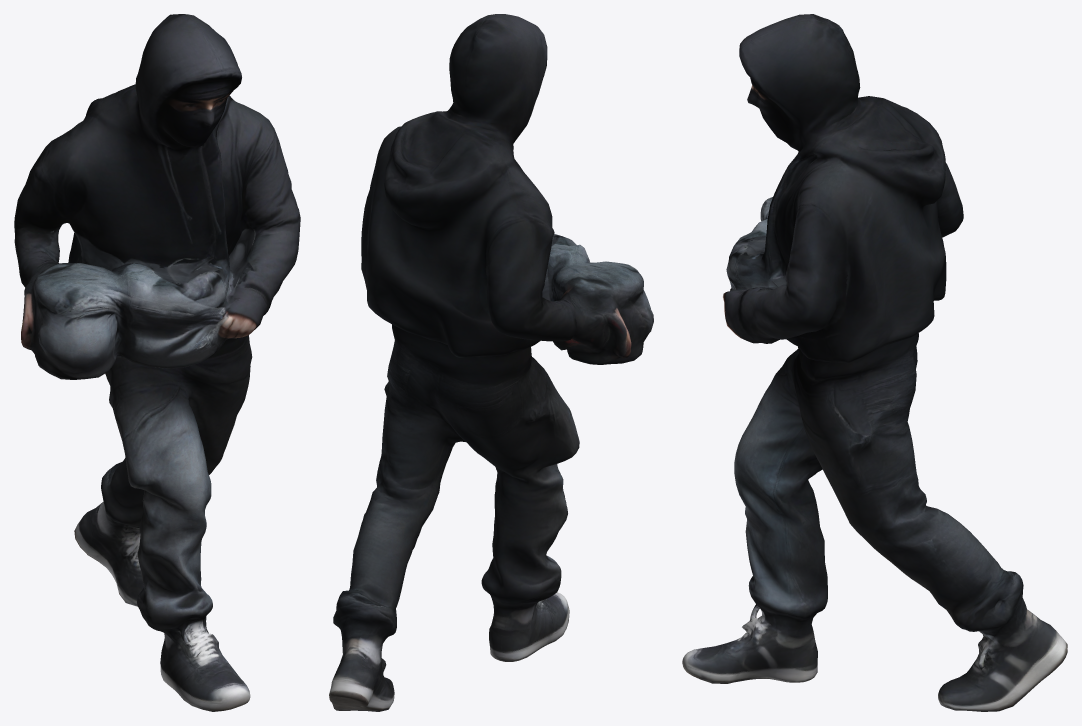
File: a_thief_running_away__0105195343_texture.fbx
3 views of the same model, side by side, from view 1: azimuth 30°, elevation 25°; view 2: azimuth 150°, elevation 25°; view 3: azimuth 270°, elevation 25° (orthographic). The views are drawn at different scales.
Parts seen in each view (by area): view 1: Mesh1_Mesh1.026; view 2: Mesh1_Mesh1.026; view 3: Mesh1_Mesh1.026.
Boxes of the visible parts, x1=… form: Mesh1_Mesh1.026: x1=14, y1=14, x2=300, y2=711; Mesh1_Mesh1.026: x1=329, y1=14, x2=653, y2=711; Mesh1_Mesh1.026: x1=682, y1=14, x2=1067, y2=711.
Size of the model in its own units: 86.16 by 200 by 105.
Materials: 1 (1 with a texture image).
